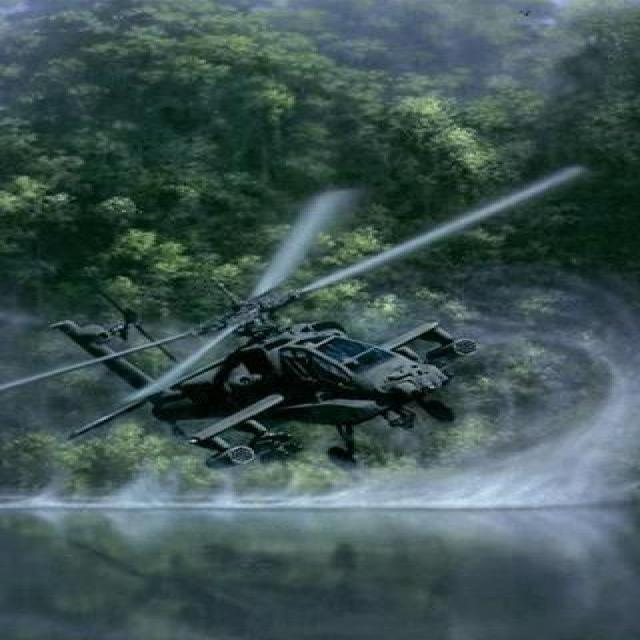MIL_HELO: (9, 174, 616, 489)
